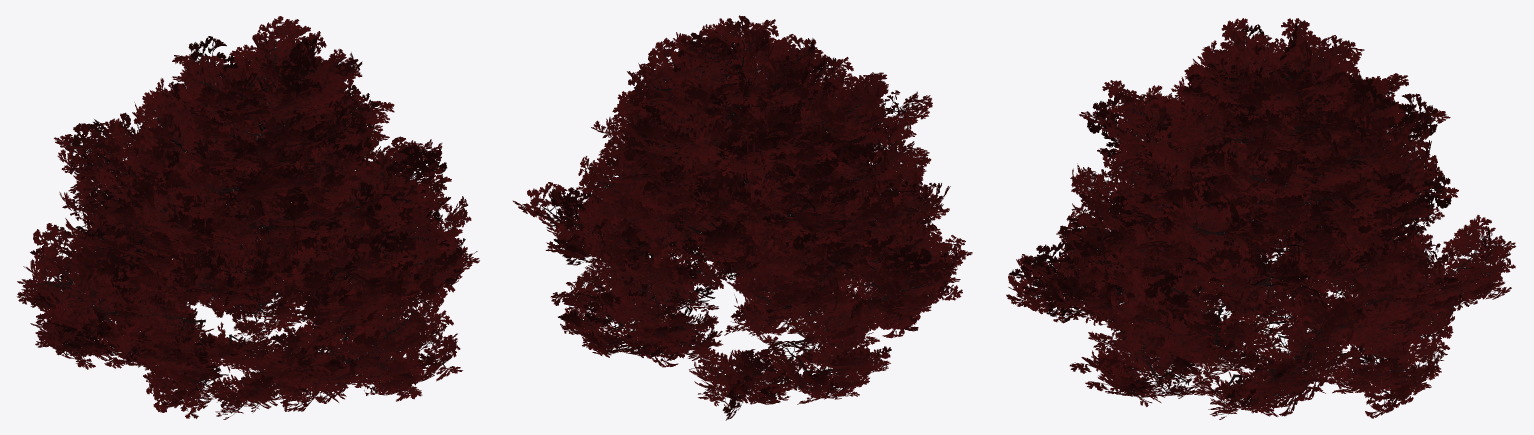
3 views of the same model, side by side, from view 1: azimuth 30°, elevation 25°; view 2: azimuth 150°, elevation 25°; view 3: azimuth 270°, elevation 25° (orthographic). The views are drawn at different scales.
Parts seen in each view (by area): view 1: SM_GF_Oak_Tree_01_Canopy_LOD0; view 2: SM_GF_Oak_Tree_01_Canopy_LOD0; view 3: SM_GF_Oak_Tree_01_Canopy_LOD0.
Boxes of the visible parts, x1,y1,x2,y2 form: SM_GF_Oak_Tree_01_Canopy_LOD0: [17, 16, 479, 419]; SM_GF_Oak_Tree_01_Canopy_LOD0: [513, 15, 972, 420]; SM_GF_Oak_Tree_01_Canopy_LOD0: [1006, 18, 1515, 419].
Size of the model in its own units: 18.67 by 13.56 by 17.95.
Materials: 1 (1 with a texture image).
